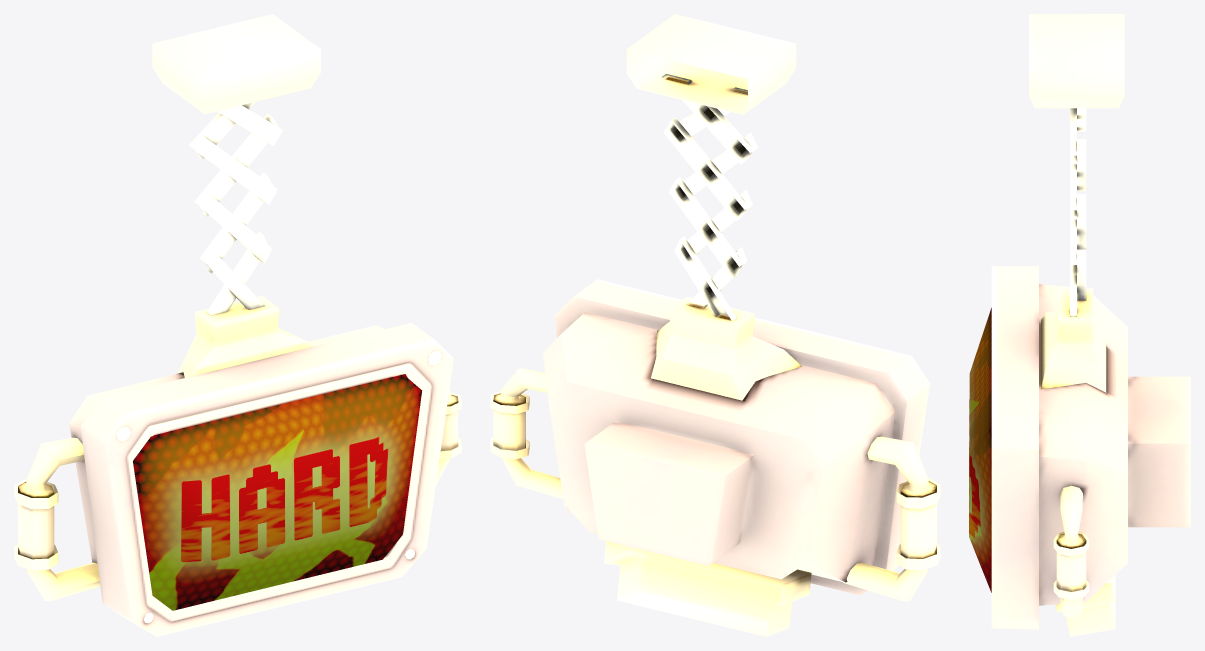
File: ui_TV_Hard.fbx
The picture shows the model from 3 angles, left to right: view 1: azimuth 30°, elevation 25°; view 2: azimuth 150°, elevation 25°; view 3: azimuth 270°, elevation 25°; orthographic projection.
Parts seen in each view (by area): view 1: ui_TV, ui_TV_Hard._Screen; view 2: ui_TV; view 3: ui_TV, ui_TV_Hard._Screen.
Boxes of the visible parts, x1,y1,x2,y2 form: ui_TV: (14,14,461,636); ui_TV_Hard._Screen: (133,374,422,610); ui_TV: (490,14,940,636); ui_TV: (991,14,1190,636); ui_TV_Hard._Screen: (969,307,991,592).
Size of the model in its own units: 512 by 620 by 223.
